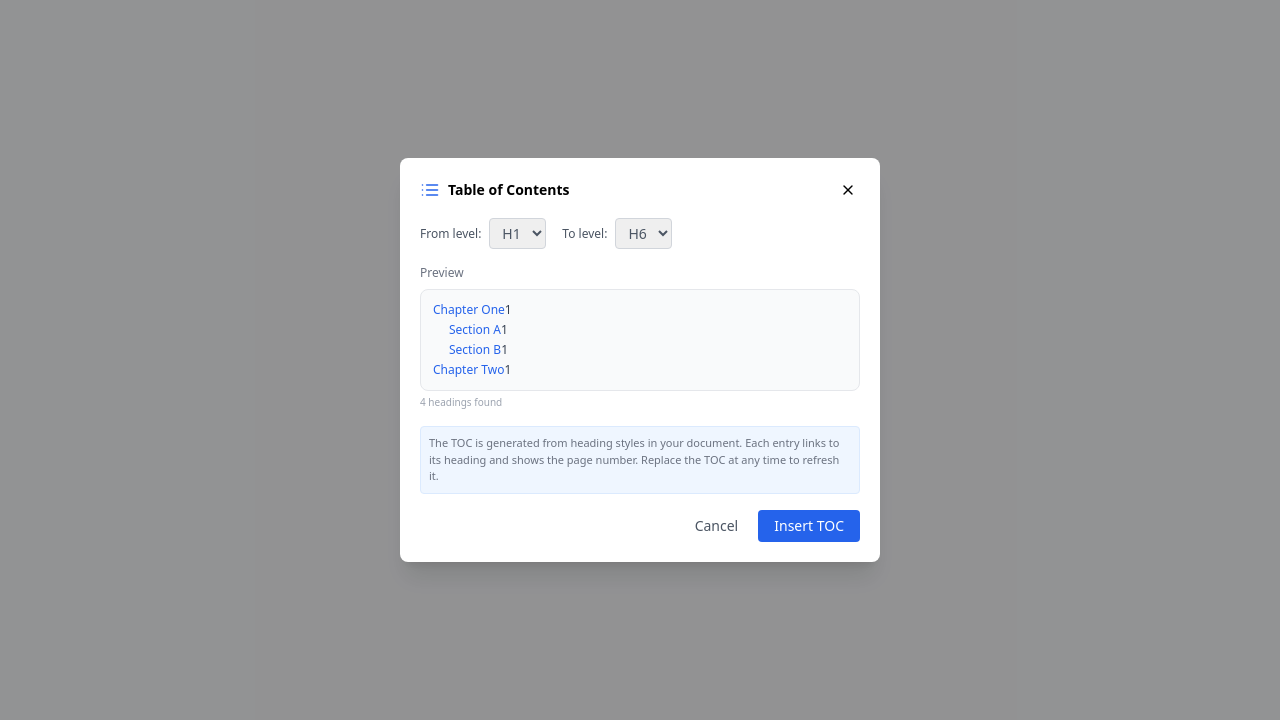
TableOfContentsModal › filters headings by level range
// Change max level to 1 (first combo is min, second is max)
Select "H1" in the dropdown labelled "To level:": (644, 234) [615,218,672,249]
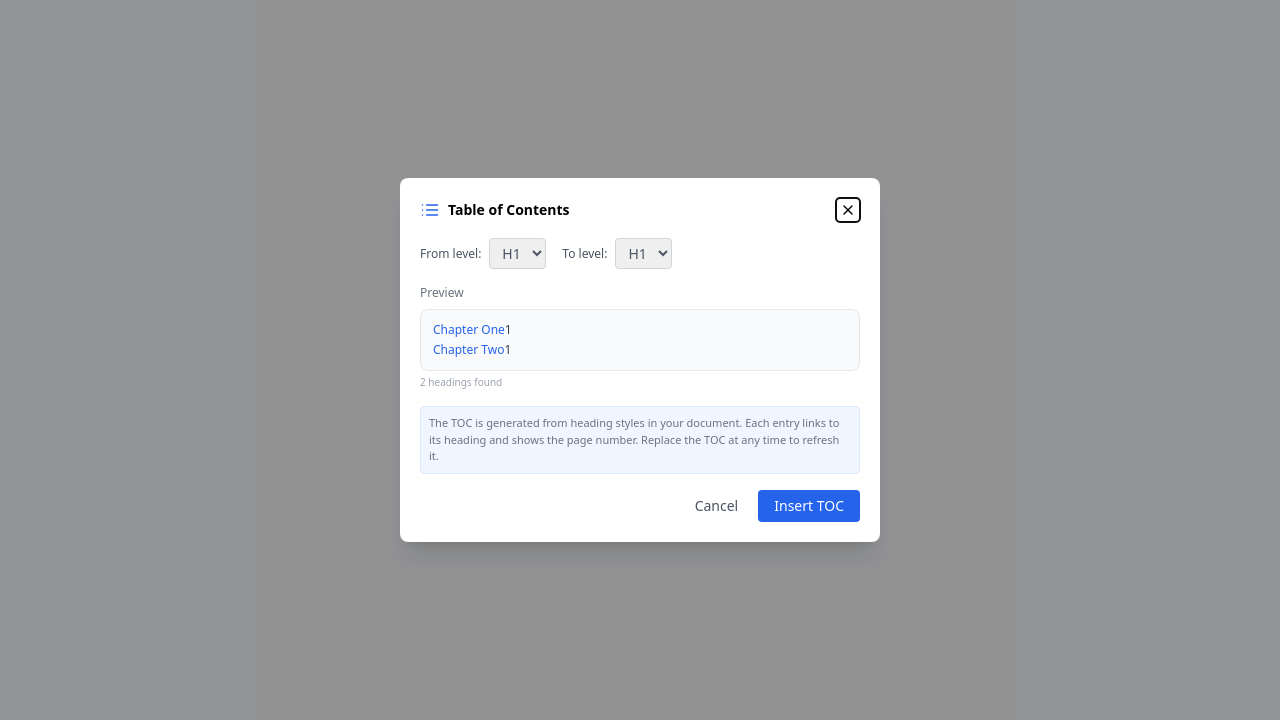
Expected: the text "2 headings found" is shown, [420,375,502,389]
